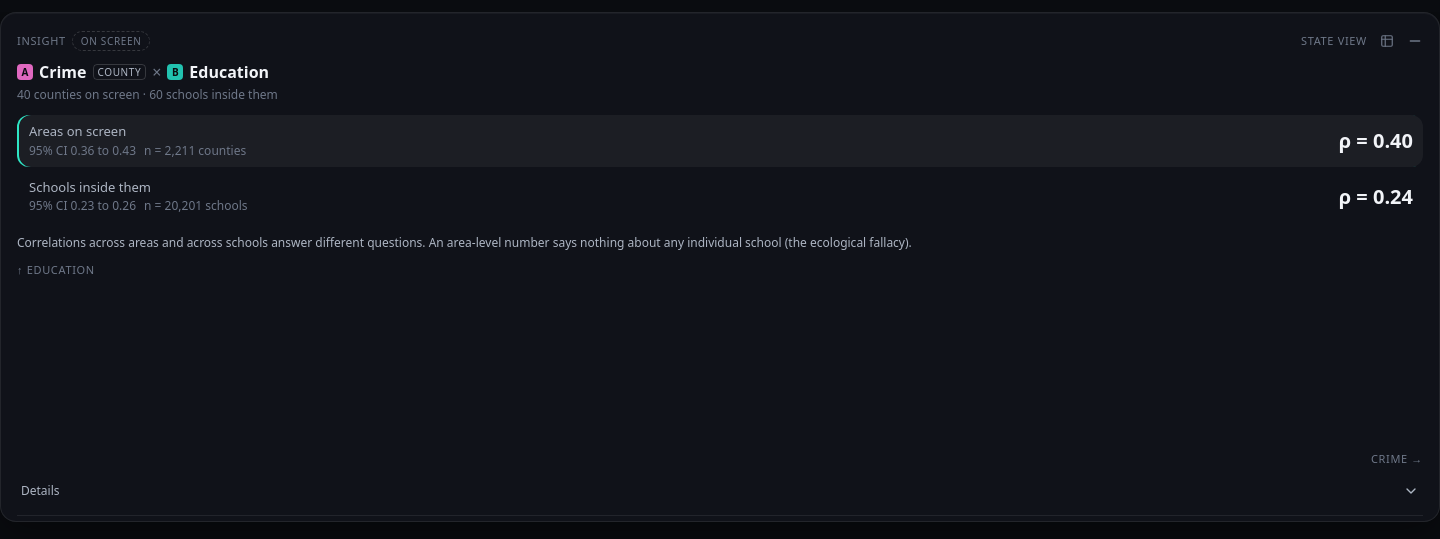
InsightView states (SPEC.md 3.7) › two-layers: details show Pearson, r², pairwise counts, and the method line
What coordinates should you click on to do the following:
click the button "Details"
I would click on:
 (40, 490)
Its box is top-left (17, 479), bottom-right (1423, 503).
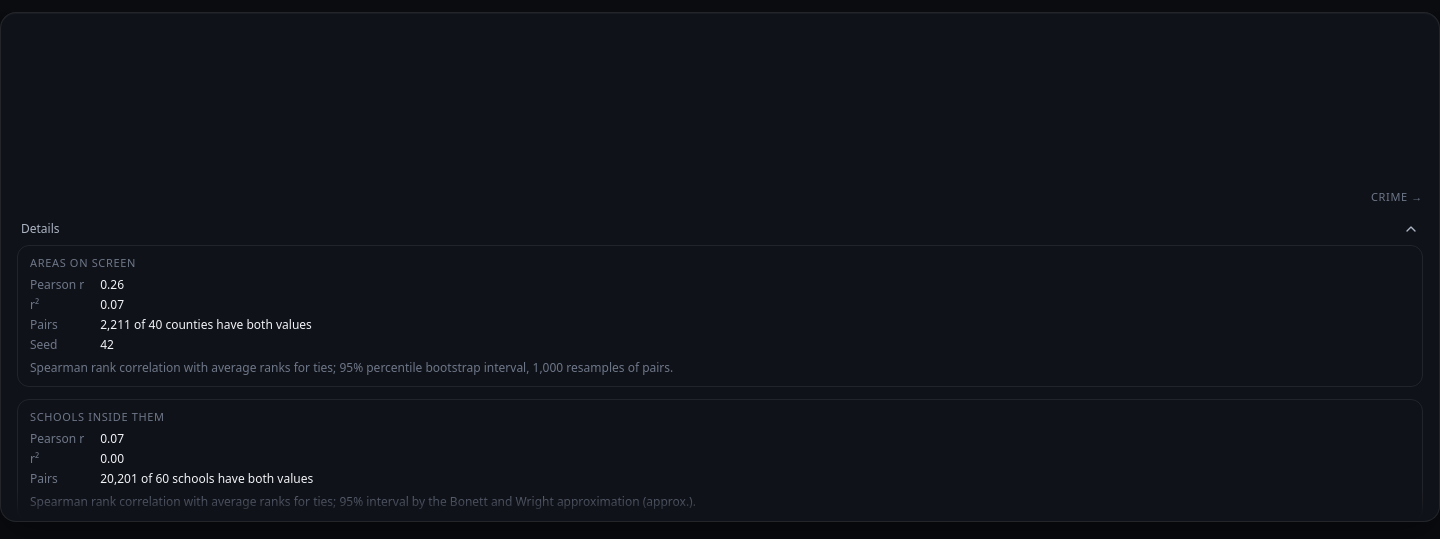
Expected: the element with test id "insight-details" shows "2,211 of 40 counties have both values", top-left (17, 245), bottom-right (1423, 521)
Expected: the element with test id "insight-details" shows "Bonett and Wright approximation (approx.)", top-left (30, 492), bottom-right (696, 510)
